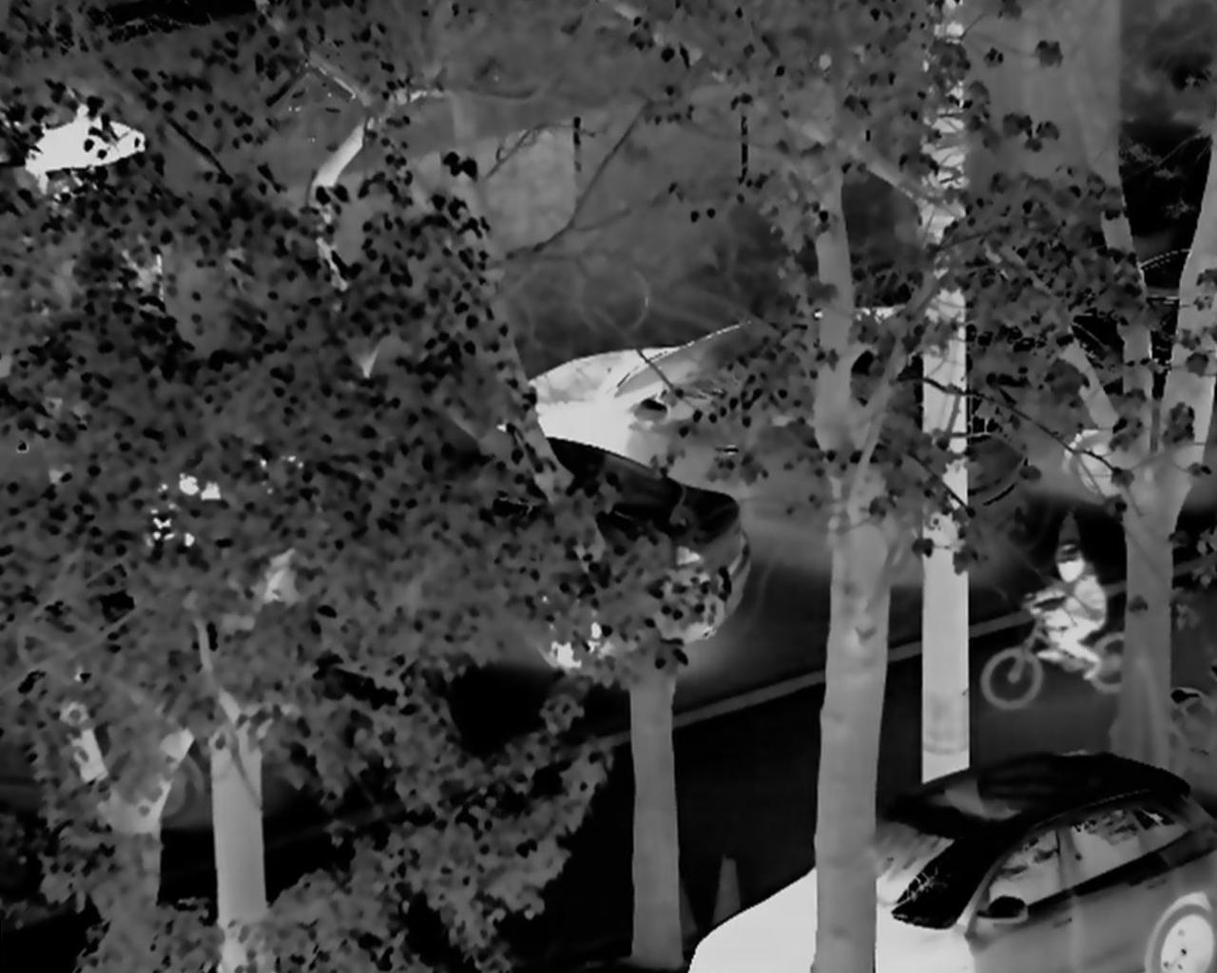person: (1026, 544, 1111, 672)
